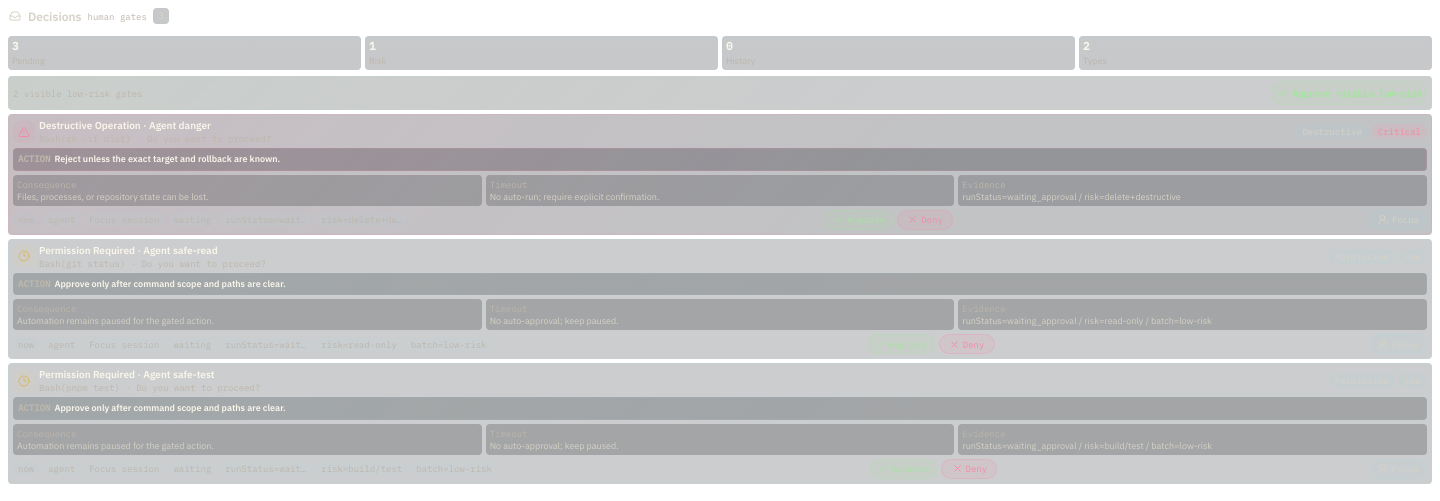
Test: DecisionInboxPanel › batches only the visible low-risk approvals through the existing single-item resolver
This screenshot has width=1440, height=501.
Click the button with aria-label "Approve 2 visible low-risk gates": (1349, 93) [1271,81,1427,105]
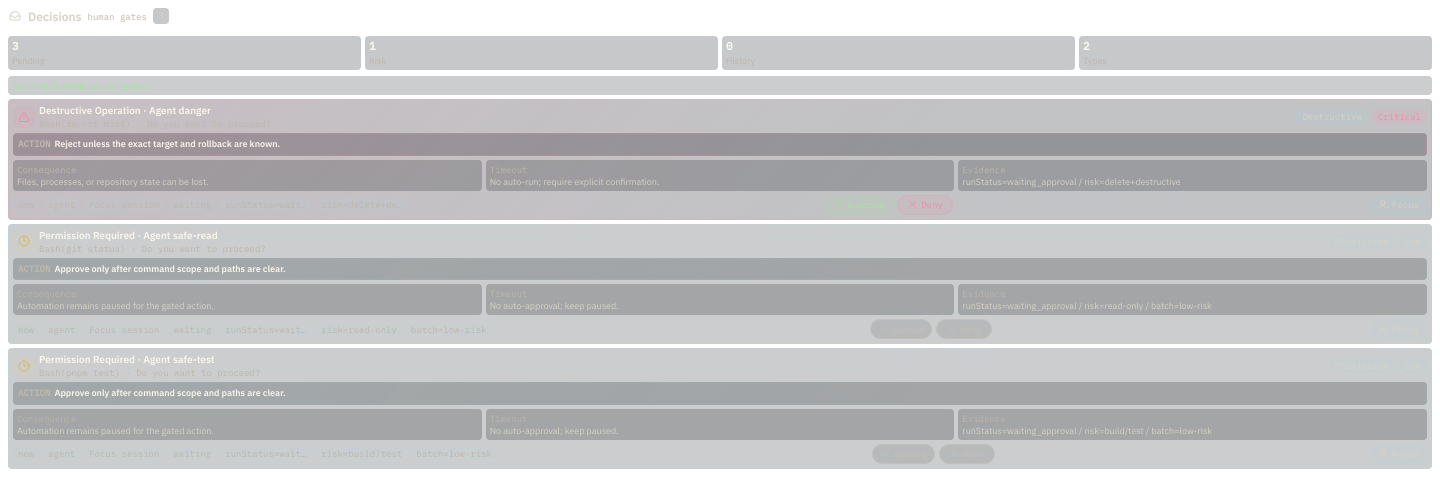
Expected: the button with aria-label "Approve Destructive Operation · Agent danger" is enabled, [825,195,893,215]
Expected: the text "Approved 2 visible low-risk gates." is shown, [8,76,1432,95]
